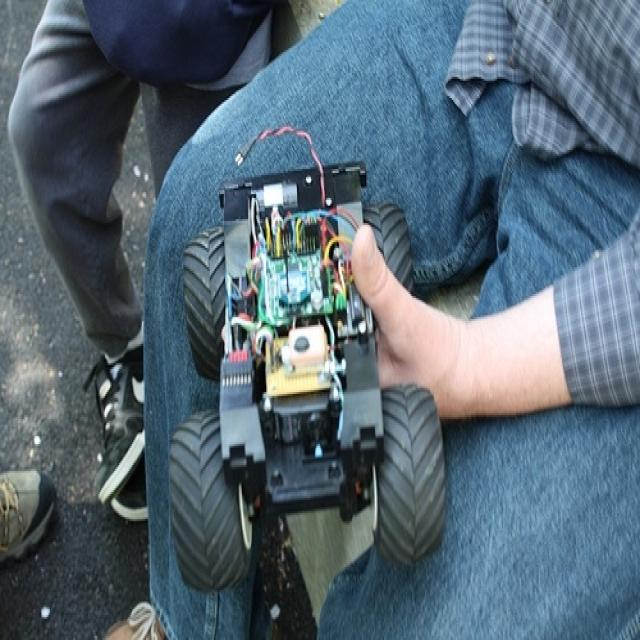E-waste: (218, 141, 383, 470)
